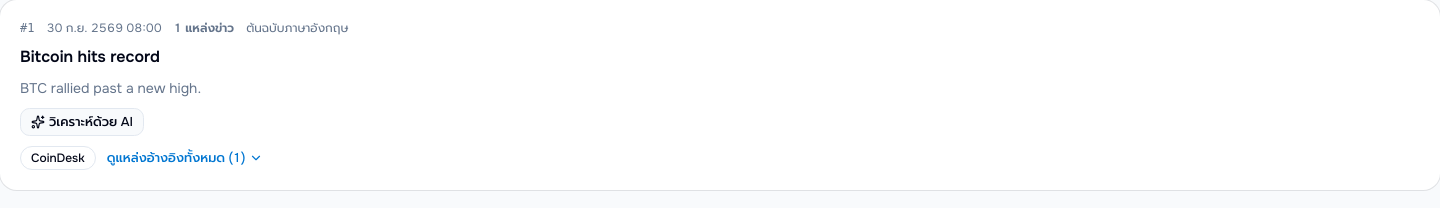
Test: AI analysis on a news card › shows the error when analysis fails
The image size is (1440, 208).
Click the button "วิเคราะห์ด้วย AI" at point(82, 122), box left=20, top=108, right=144, bottom=136
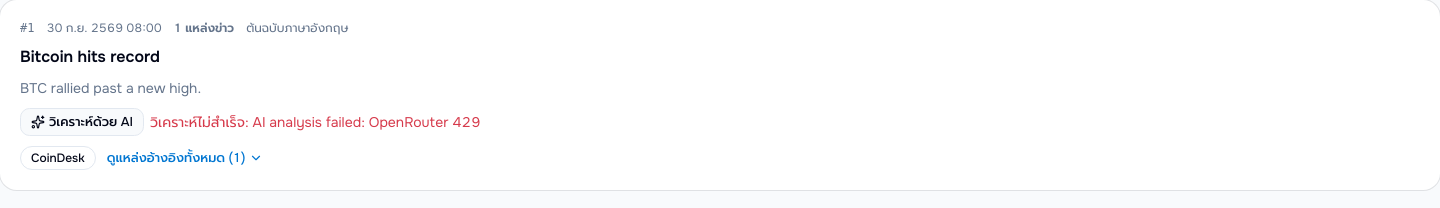
Now the text "วิเคราะห์ไม่สำเร็จ: AI analysis failed: OpenRouter 429" is shown, box left=150, top=112, right=480, bottom=132
